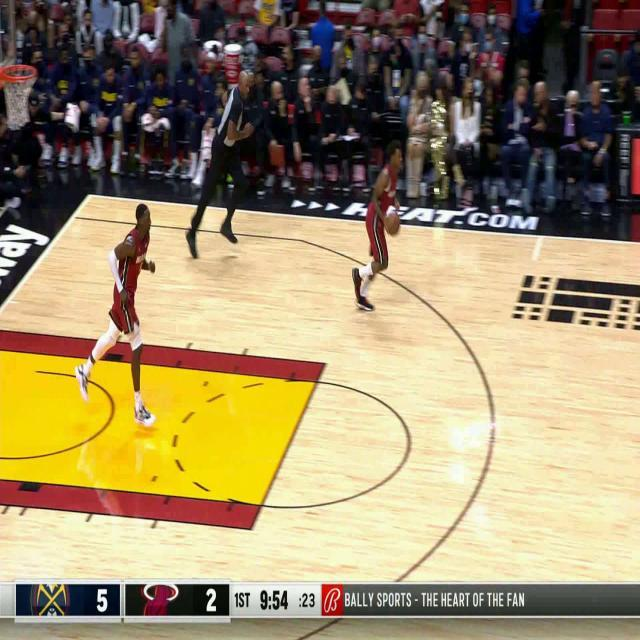rim: (386, 210, 399, 235)
